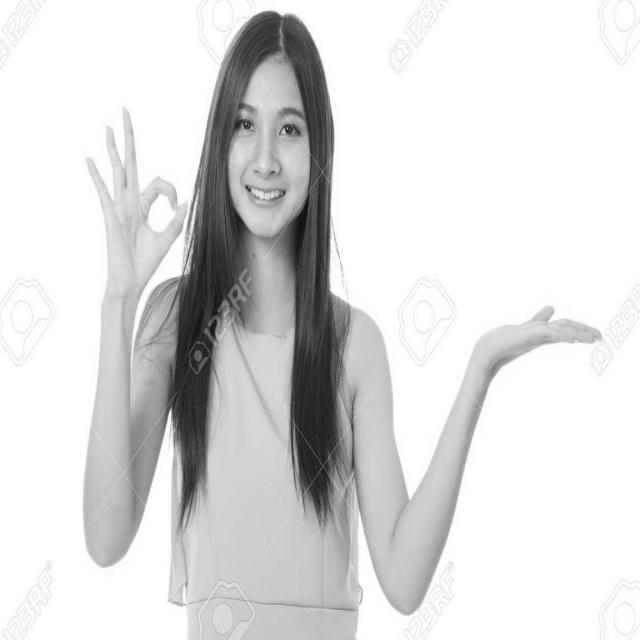perfect: (78, 96, 191, 327)
